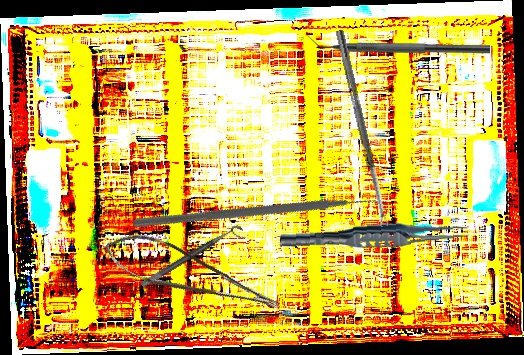Chopper: (131, 93, 394, 344), (307, 32, 490, 54)
Fixation Ring: (139, 222, 248, 297)
Micro Scissor: (98, 217, 284, 341)
Surgical Spoon: (334, 29, 389, 228)
Tissue Forceps: (279, 217, 470, 256)
